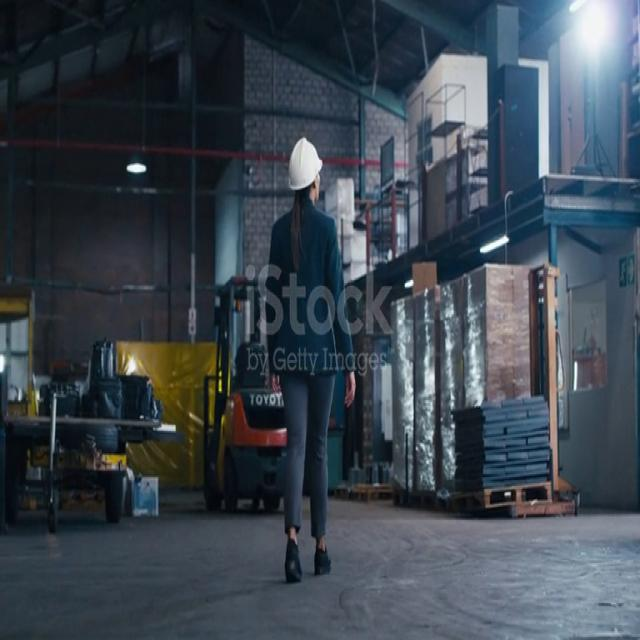capacete: (275, 116, 333, 207)
